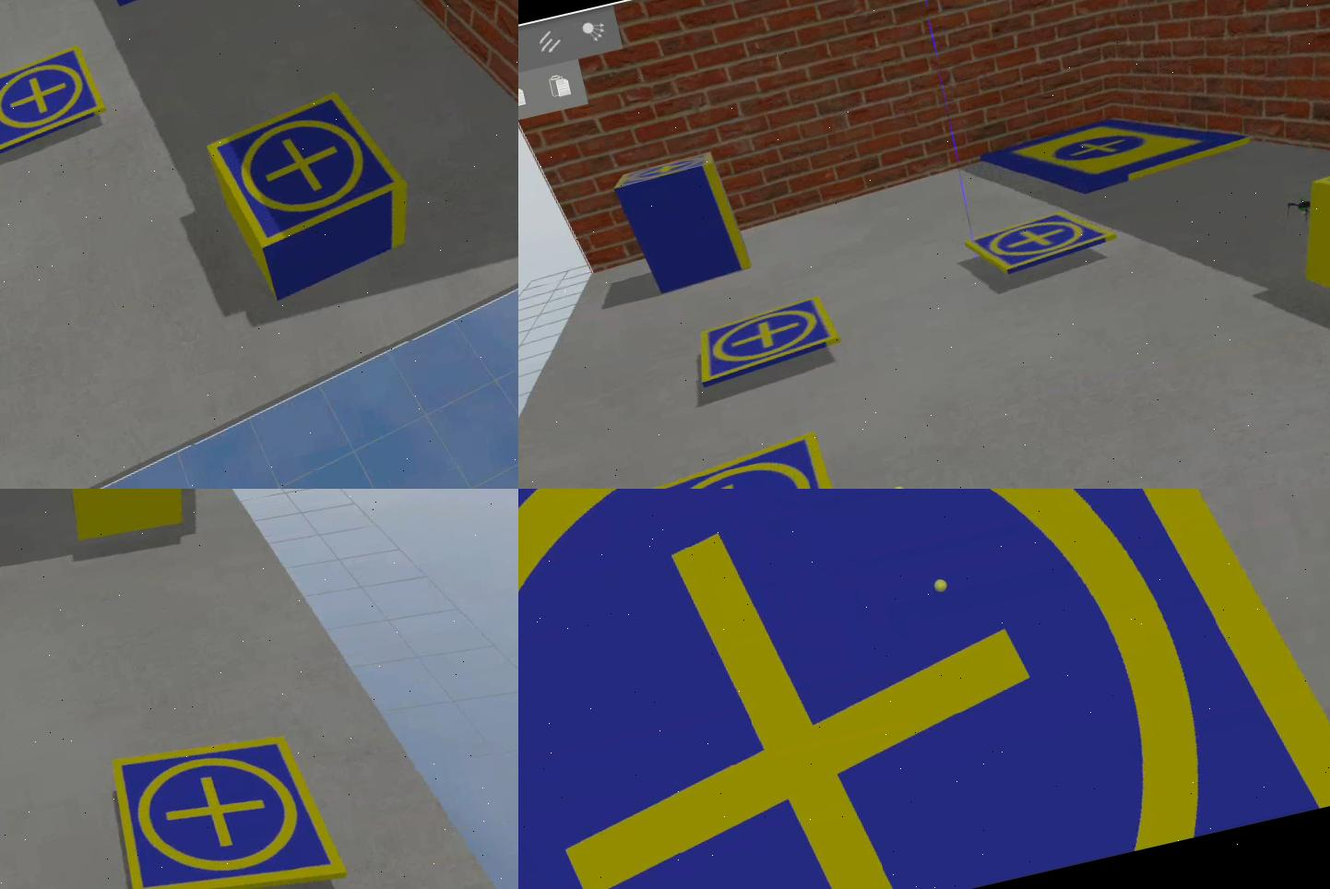large_base: (980, 84, 1256, 215)
small_base: (519, 490, 1330, 889), (100, 710, 353, 889), (200, 78, 416, 256), (573, 428, 861, 490), (688, 292, 845, 386), (1, 41, 117, 159), (968, 203, 1119, 286), (608, 148, 722, 196)
